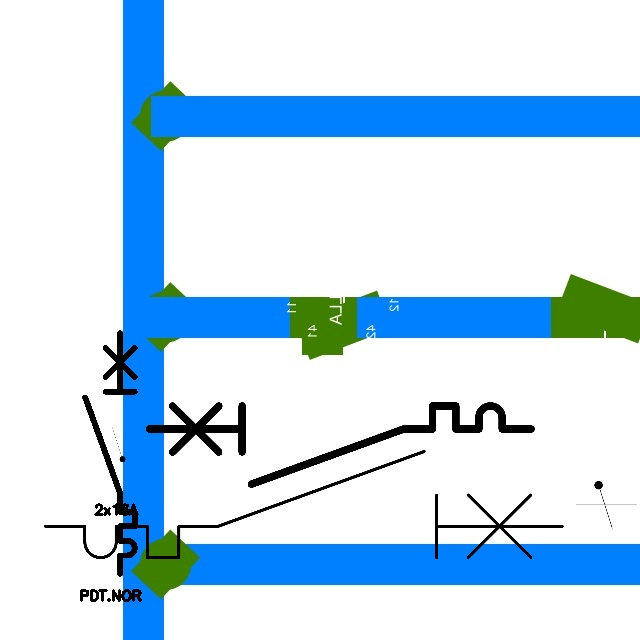interruptor_termomagnetico: (32, 438, 575, 571), (139, 396, 540, 494), (79, 327, 141, 580)
